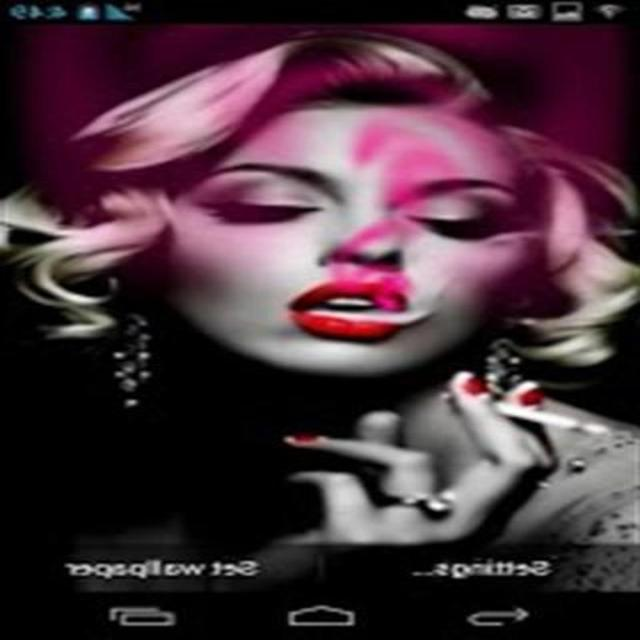smoking: (99, 47, 619, 471)
